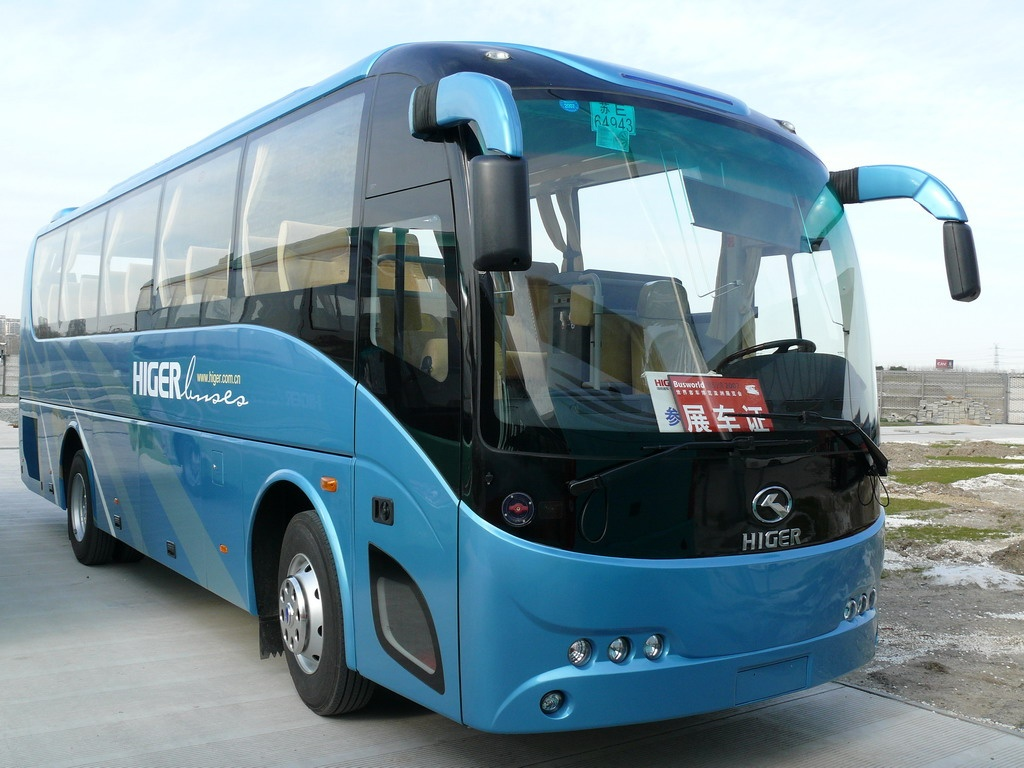bus: (10, 41, 974, 751)
